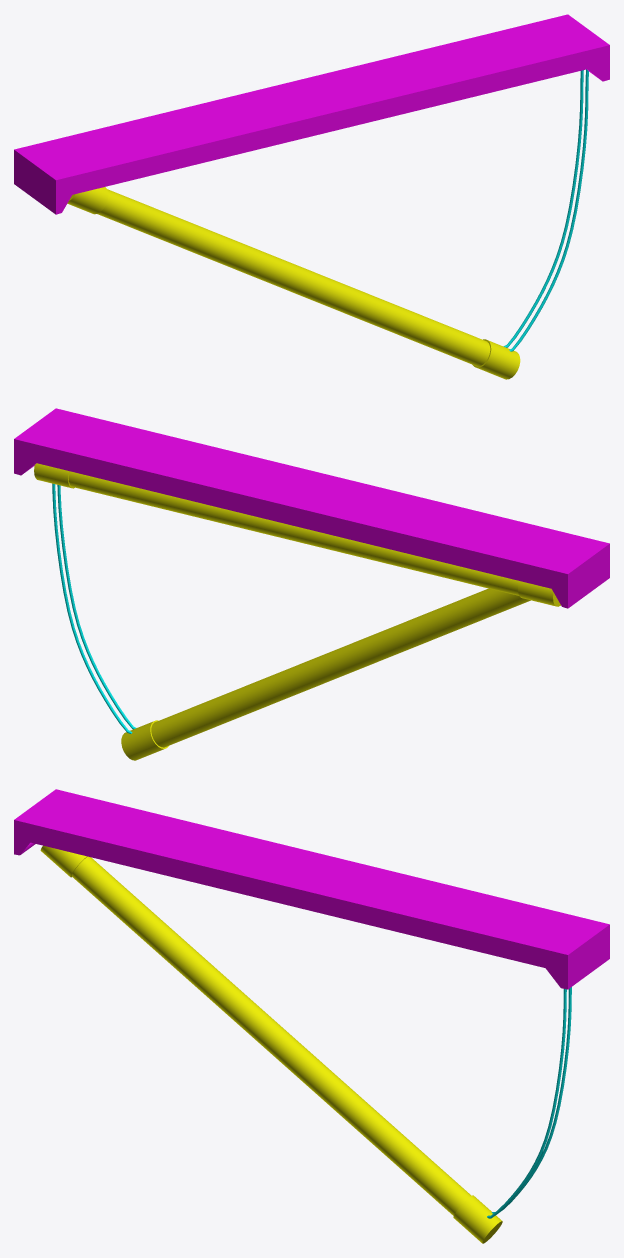
File: LampadaV2.fbx
3 views of the same model, one above another, from view 1: azimuth 30°, elevation 25°; view 2: azimuth 150°, elevation 25°; view 3: azimuth 330°, elevation 25° (orthographic).
Visible parts, largest first — view 1: curve3; view 2: curve3; view 3: curve3.
Boxes of the visible parts, <box> form: curve3: <box>14,14,609,379</box>; curve3: <box>14,408,609,760</box>; curve3: <box>14,789,609,1243</box>.
Size of the model in its own units: 9.86 by 5.43 by 1.29.
